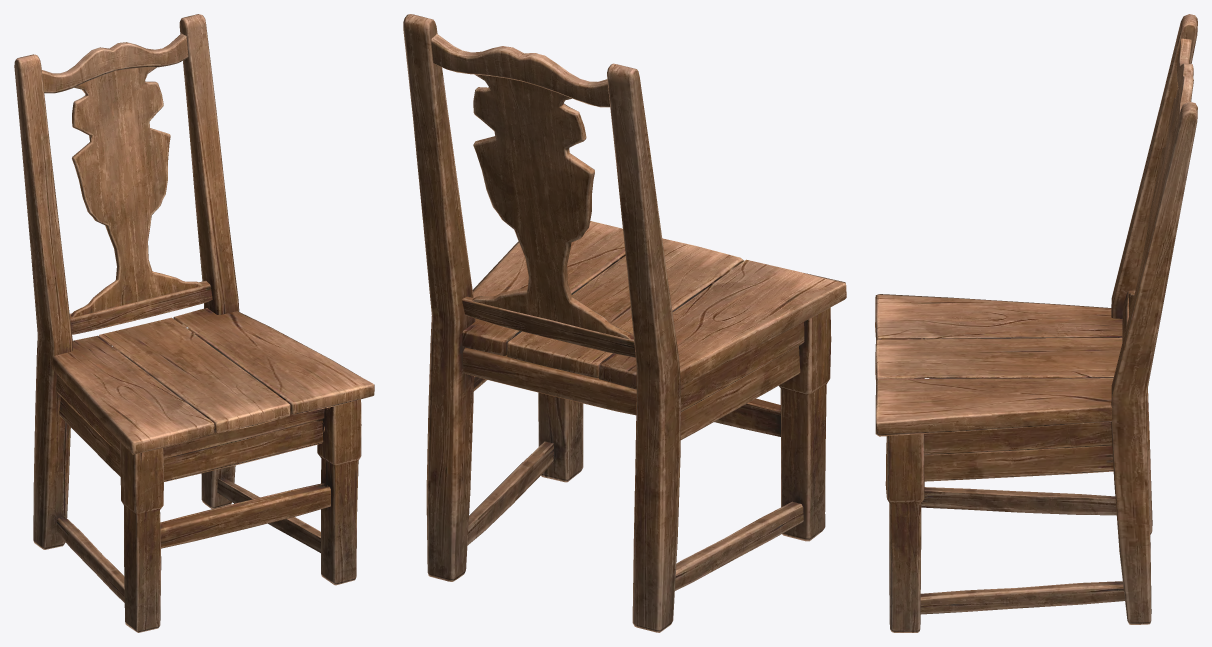
3 renders of one model, left to right at view 1: azimuth 30°, elevation 25°; view 2: azimuth 150°, elevation 25°; view 3: azimuth 270°, elevation 25°, orthographic. The views are drawn at different scales.
Parts seen in each view (by area): view 1: SM_Chair_Table_01v2_LOD0; view 2: SM_Chair_Table_01v2_LOD0; view 3: SM_Chair_Table_01v2_LOD0.
Part boxes in pixels (bbox=[...]): SM_Chair_Table_01v2_LOD0: bbox=[14, 14, 374, 632]; SM_Chair_Table_01v2_LOD0: bbox=[403, 14, 846, 632]; SM_Chair_Table_01v2_LOD0: bbox=[875, 14, 1197, 632].
Size of the model in its own units: 0.6205 by 1.15 by 0.6545.
1 material, 1 textured.
